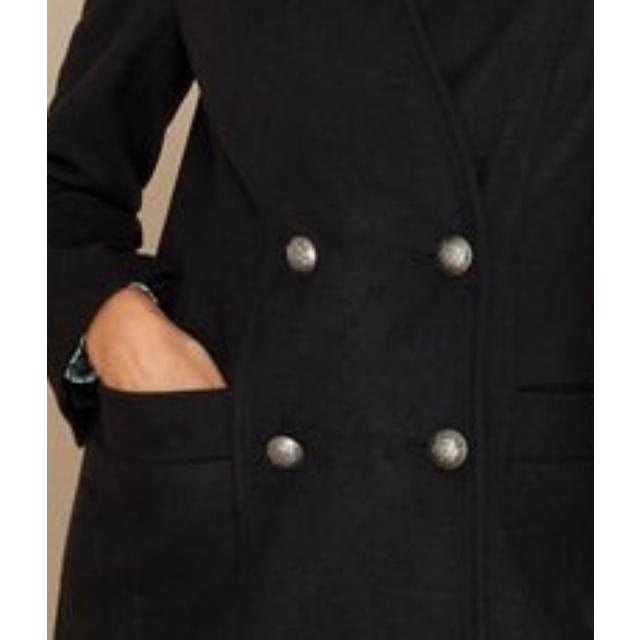wool: (52, 0, 594, 640)
